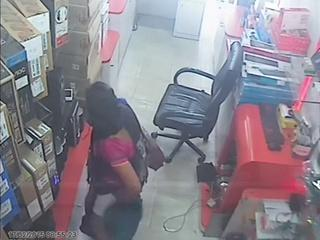Normal: (78, 81, 150, 239)
